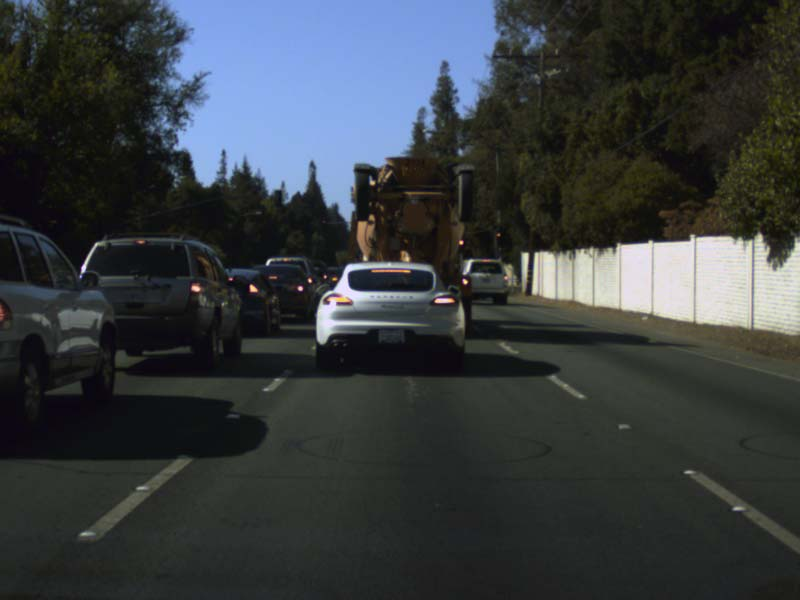Red: (458, 238, 466, 245), (495, 232, 502, 237)
